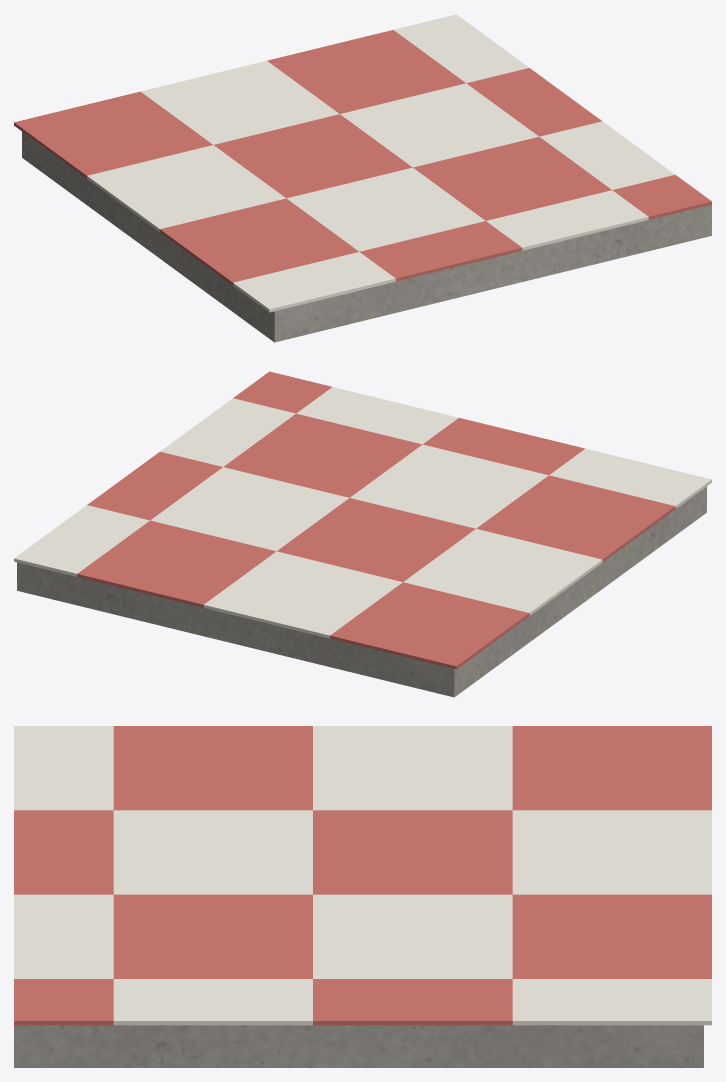
File: floor_dine_e0_25_0_25.glb
3 renders of one model, top to bottom at view 1: azimuth 30°, elevation 25°; view 2: azimuth 150°, elevation 25°; view 3: azimuth 270°, elevation 25°, orthographic. The views are drawn at different scales.
Visible parts, largest first — view 1: floor_dine_e0_25_0_25_tile_r, floor_dine_e0_25_0_25_tile_w, floor_dine_e0_25_0_25_concrete; view 2: floor_dine_e0_25_0_25_tile_r, floor_dine_e0_25_0_25_tile_w, floor_dine_e0_25_0_25_concrete; view 3: floor_dine_e0_25_0_25_tile_r, floor_dine_e0_25_0_25_tile_w, floor_dine_e0_25_0_25_concrete.
Boxes of the visible parts, x1,y1,x2,y2 form: floor_dine_e0_25_0_25_tile_r: (14,30,711,285); floor_dine_e0_25_0_25_tile_w: (87,14,674,312); floor_dine_e0_25_0_25_concrete: (22,131,711,342); floor_dine_e0_25_0_25_tile_r: (77,371,675,669); floor_dine_e0_25_0_25_tile_w: (14,387,711,638); floor_dine_e0_25_0_25_concrete: (17,486,706,697); floor_dine_e0_25_0_25_tile_r: (14,726,711,1025); floor_dine_e0_25_0_25_tile_w: (14,726,711,1025); floor_dine_e0_25_0_25_concrete: (14,1025,703,1067).
Bounding box in the file's own units: 1.75 × 0.13 × 1.75.
3 materials, 1 textured.
